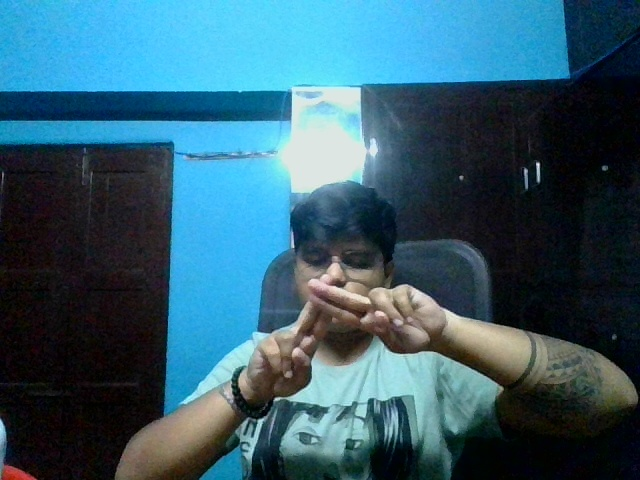F: (228, 273, 455, 405)
